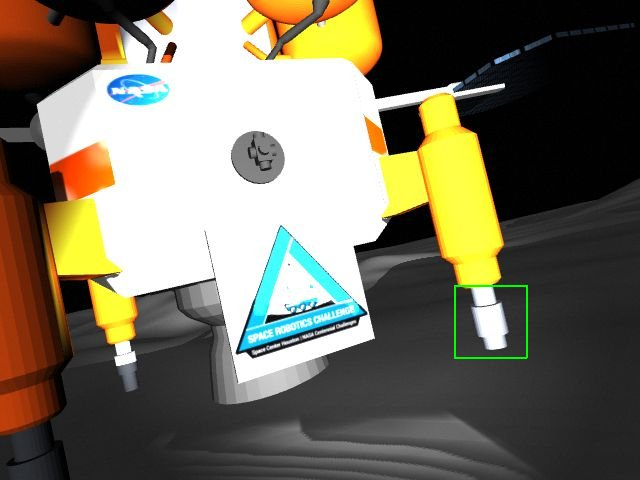basemarker: (234, 224, 369, 360)
